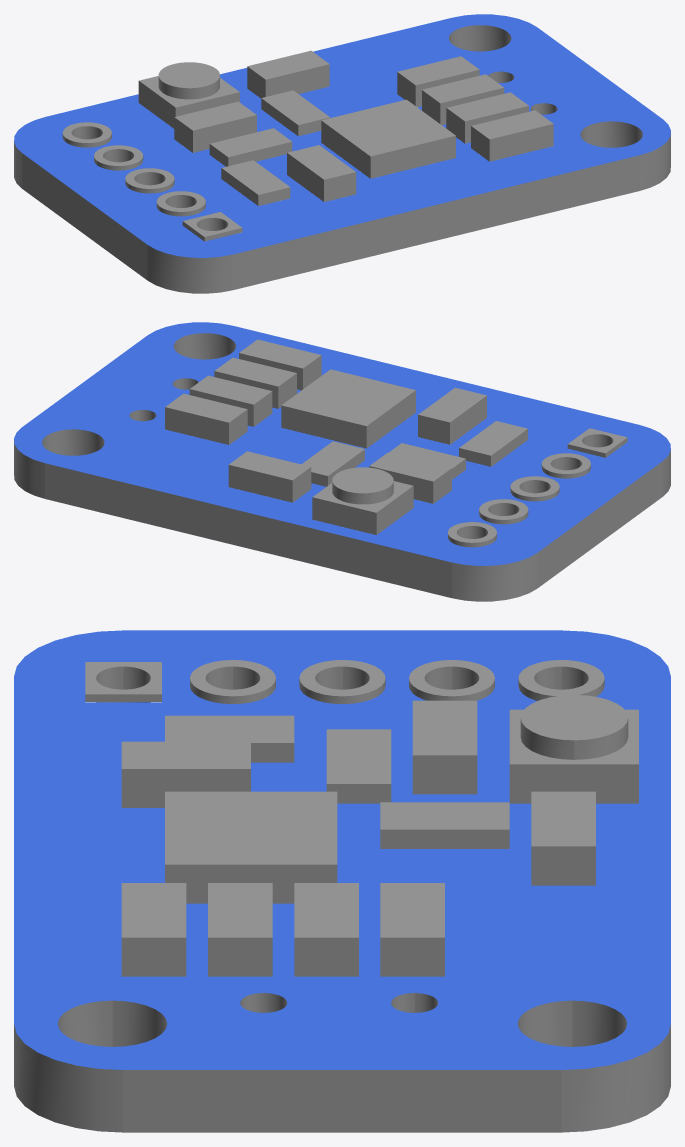
The model's file is ada-2130.glb.
3 views of the same model, one above another, from view 1: azimuth 30°, elevation 25°; view 2: azimuth 150°, elevation 25°; view 3: azimuth 270°, elevation 25° (orthographic). The views are drawn at different scales.
Parts seen in each view (by area): view 1: 0.3333333333333333_0.3333333333333333_0.3333333333333333_0, 0.08333333333333333_0.16666666666666666_0.9166666666666666_0; view 2: 0.3333333333333333_0.3333333333333333_0.3333333333333333_0, 0.08333333333333333_0.16666666666666666_0.9166666666666666_0; view 3: 0.08333333333333333_0.16666666666666666_0.9166666666666666_0, 0.3333333333333333_0.3333333333333333_0.3333333333333333_0.
Part boxes in pixels (x1,y1,x2,y2): 0.3333333333333333_0.3333333333333333_0.3333333333333333_0: (14, 25, 670, 293); 0.08333333333333333_0.16666666666666666_0.9166666666666666_0: (14, 14, 670, 257); 0.3333333333333333_0.3333333333333333_0.3333333333333333_0: (14, 333, 670, 601); 0.08333333333333333_0.16666666666666666_0.9166666666666666_0: (14, 322, 670, 565); 0.08333333333333333_0.16666666666666666_0.9166666666666666_0: (14, 630, 670, 1069); 0.3333333333333333_0.3333333333333333_0.3333333333333333_0: (14, 660, 670, 1132).
Size of the model in its own units: 2.41 by 0.3099 by 1.52.
